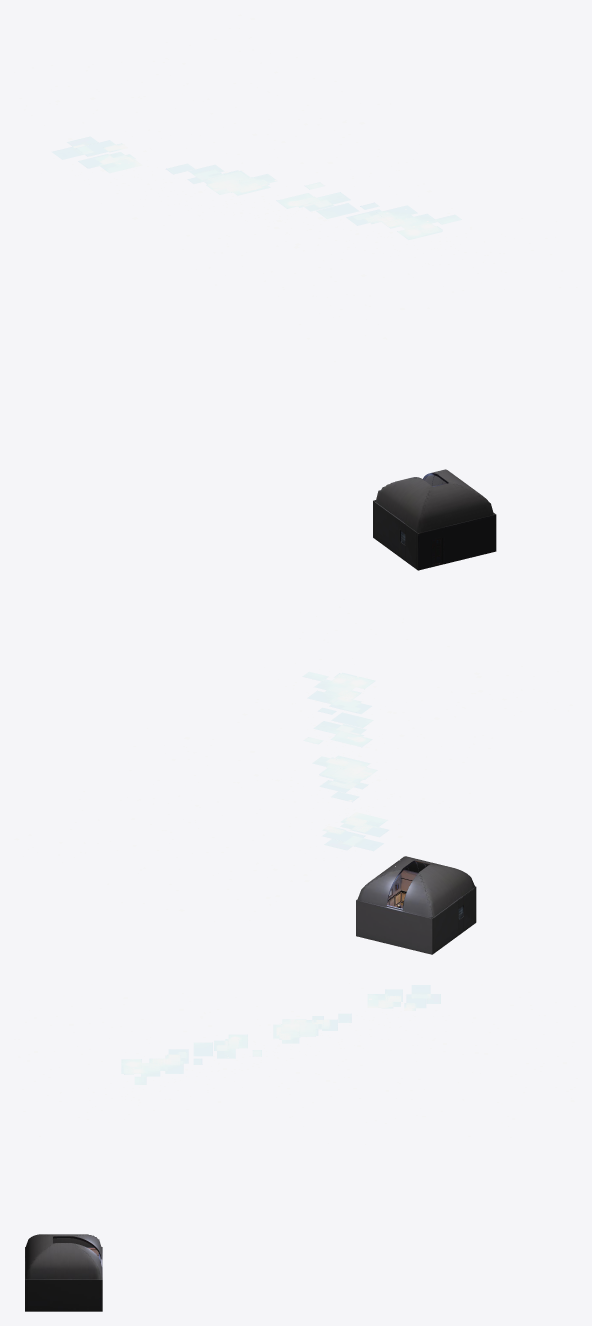
Rendered from room.gltf.
3 views of the same model, one above another, from view 1: azimuth 30°, elevation 25°; view 2: azimuth 150°, elevation 25°; view 3: azimuth 270°, elevation 25° (orthographic). The views are drawn at different scales.
Parts seen in each view (by area): view 1: MESH_stardust, MESH_dome, MESH_walls, MESH_stars; view 2: MESH_stardust, MESH_walls, MESH_dome, MESH_stars; view 3: MESH_stardust, MESH_dome, MESH_walls, MESH_stars.
Part boxes in pixels (<box>): MESH_stardust: <box>52,136,461,239</box>; MESH_dome: <box>374,469,494,532</box>; MESH_walls: <box>373,500,496,569</box>; MESH_stars: <box>14,14,577,362</box>; MESH_stardust: <box>302,671,388,851</box>; MESH_walls: <box>356,872,476,953</box>; MESH_dome: <box>357,856,474,918</box>; MESH_stars: <box>14,599,577,922</box>; MESH_stardust: <box>121,985,440,1084</box>; MESH_dome: <box>25,1234,101,1279</box>; MESH_walls: <box>25,1247,102,1310</box>; MESH_stars: <box>14,983,577,1144</box>.
Size of what is drawn, in the model's own units: 25.22 by 23.01 by 46.13.
25 materials, 25 textured.
